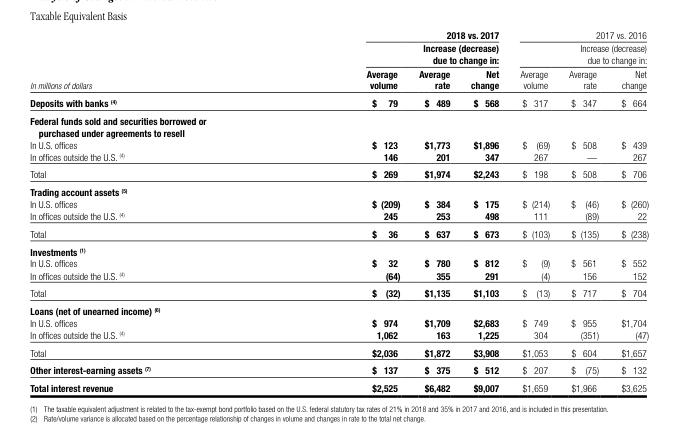table: (29, 28, 648, 393)
table column: (29, 28, 257, 393), (257, 28, 408, 393), (408, 28, 459, 393), (558, 28, 609, 393), (508, 28, 558, 393), (459, 28, 508, 393), (609, 28, 648, 393)
table column header: (29, 28, 648, 93)
table projected row header: (29, 111, 648, 138), (29, 182, 648, 197), (29, 242, 648, 257), (29, 301, 648, 316)
table row: (29, 28, 648, 66), (29, 66, 648, 93), (29, 111, 648, 138), (29, 93, 648, 111), (29, 164, 648, 182), (29, 224, 648, 242), (29, 283, 648, 301), (29, 343, 648, 361), (29, 361, 648, 378), (29, 182, 648, 197), (29, 209, 648, 224), (29, 242, 648, 257), (29, 268, 648, 283), (29, 301, 648, 316), (29, 328, 648, 343), (29, 378, 648, 393), (29, 150, 648, 164), (29, 138, 648, 150), (29, 197, 648, 209), (29, 316, 648, 328), (29, 257, 648, 268)
table spanning cell: (29, 28, 257, 93), (257, 28, 508, 66), (508, 28, 648, 66)
